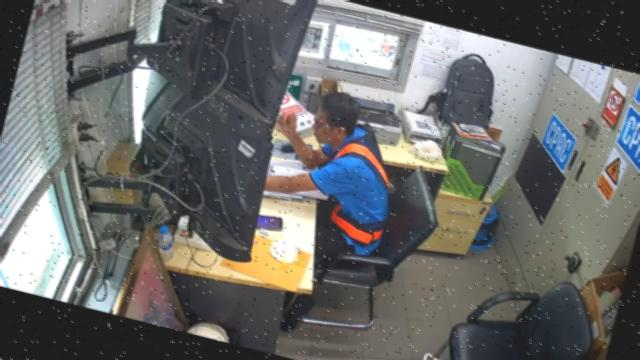Head: (314, 93, 359, 148)
People: (265, 93, 390, 266)
Phone: (255, 214, 284, 231)
